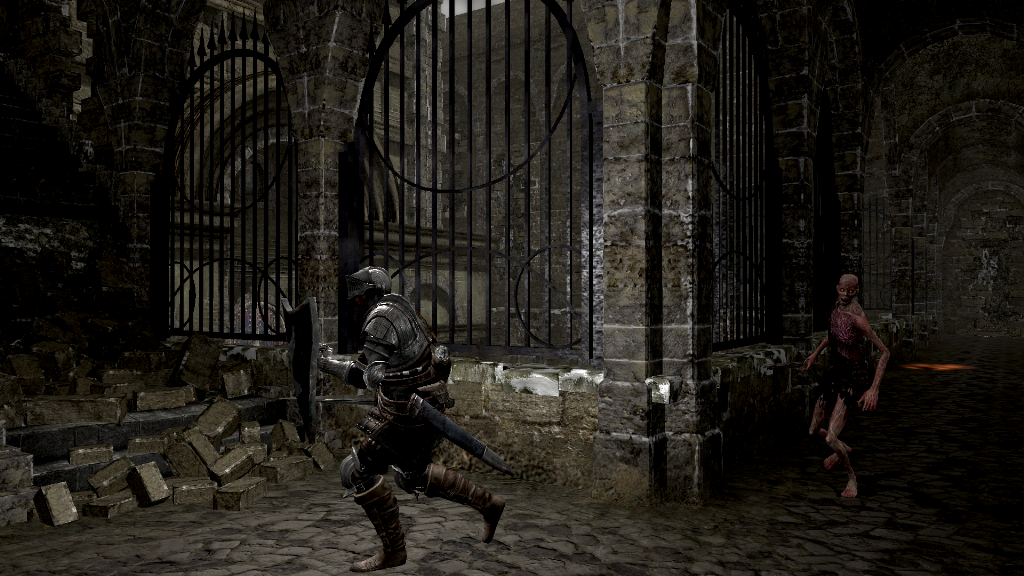hollow: (803, 274, 891, 500)
player: (280, 265, 507, 576)
